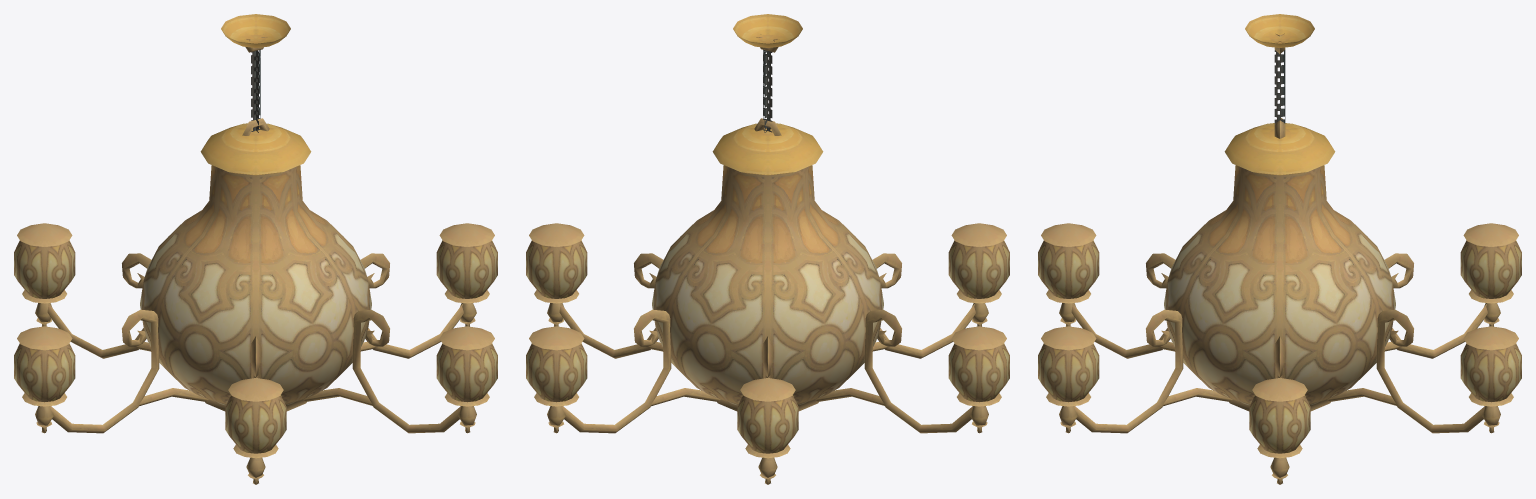
The model's file is Homeworld_Interior_Md_Lamp_Droplight_02_Vo.fbx.
3 views of the same model, side by side, from view 1: azimuth 30°, elevation 25°; view 2: azimuth 150°, elevation 25°; view 3: azimuth 270°, elevation 25° (orthographic).
Visible parts, largest first — view 1: Homeworld_Interior_Md_Lamp_Droplight_02_Vo; view 2: Homeworld_Interior_Md_Lamp_Droplight_02_Vo; view 3: Homeworld_Interior_Md_Lamp_Droplight_02_Vo.
Boxes of the visible parts, x1,y1,x2,y2 form: Homeworld_Interior_Md_Lamp_Droplight_02_Vo: [14, 14, 497, 484]; Homeworld_Interior_Md_Lamp_Droplight_02_Vo: [526, 14, 1009, 484]; Homeworld_Interior_Md_Lamp_Droplight_02_Vo: [1038, 14, 1521, 484].
Size of the model in its own units: 3.12 by 2.58 by 2.75.
